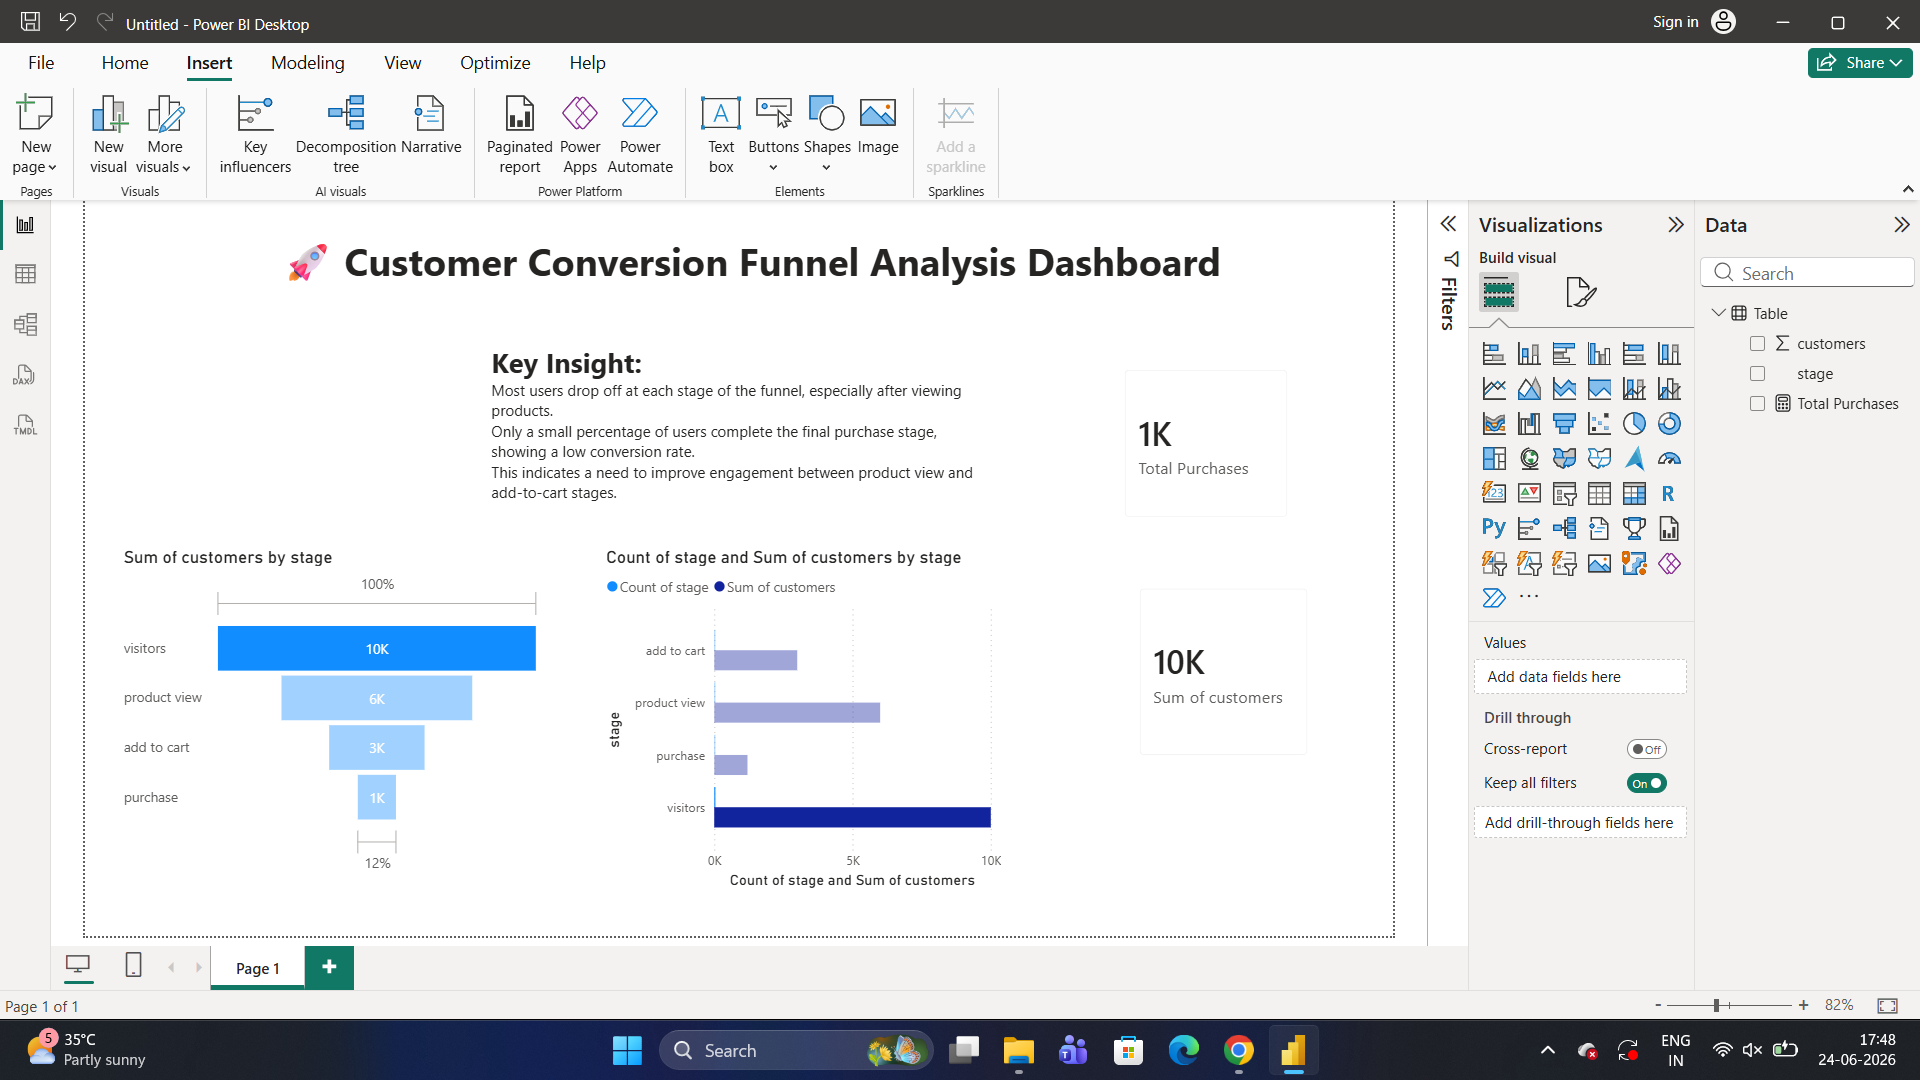

The dashboard page shown, as its layout file describes it:
{"tool":"powerbi","page":{"name":"Page 1","canvas":[1280,720],"ordinal":0},"visuals":[{"type":"funnel","fields":{"Category":["Table.stage"],"Y":["Sum(Table.customers)"]},"box":[33,338.7,418.2,326.5],"z":0},{"type":"cardVisual","fields":{"Data":["Sum(Table.customers)"]},"box":[1015.4,363.6,199,197.6],"z":1000},{"type":"cardVisual","fields":{"Data":["Table.Total Purchases"]},"box":[1000.3,149.2,193.2,178.5],"z":2000},{"type":"clusteredBarChart","fields":{"Category":["Table.stage","Table.customers"],"Y":["CountNonNull(Table.stage)","Sum(Table.customers)"]},"box":[505,338.7,396.2,339.9],"z":3000},{"type":"textbox","box":[156.4,28.8,1037.4,68.6],"z":5000},{"type":"textbox","box":[392.5,135.8,483,178.4],"z":6000}]}

Visuals, with their boxes on the page's 1280x720 design canvas (x1, y1, x2, y2). These are canvas units, not pixel positions in the 1920x1080 screenshot, which may show the page scaled, cropped or inside an application window:
funnel - Table.stage x Sum(Table.customers): x1=33 y1=339 x2=451 y2=665
cardVisual - Sum(Table.customers): x1=1015 y1=364 x2=1214 y2=561
cardVisual - Table.Total Purchases: x1=1000 y1=149 x2=1194 y2=328
clusteredBarChart - Table.stage x Table.customers: x1=505 y1=339 x2=901 y2=679
textbox: x1=156 y1=29 x2=1194 y2=97
textbox: x1=392 y1=136 x2=876 y2=314
